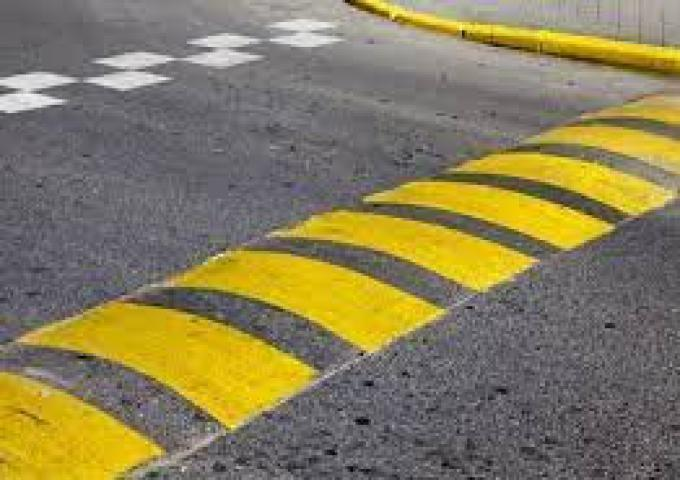speedbreaker: (0, 93, 678, 478)
